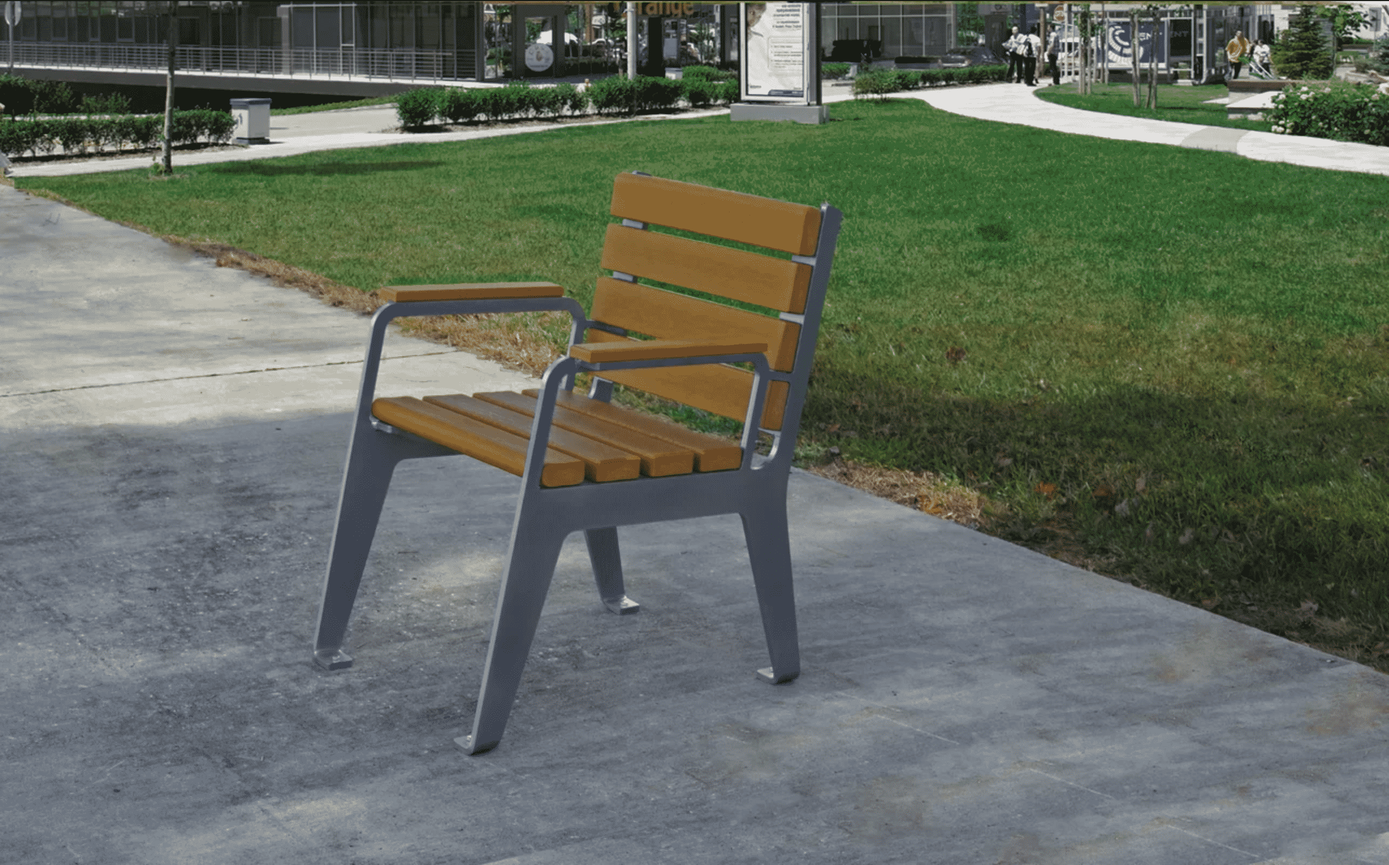Chair: (317, 164, 832, 755)
